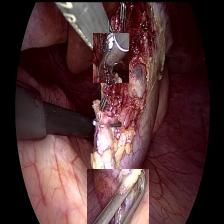Grasper: (86, 168, 148, 224)
Scissors: (92, 32, 128, 82)
